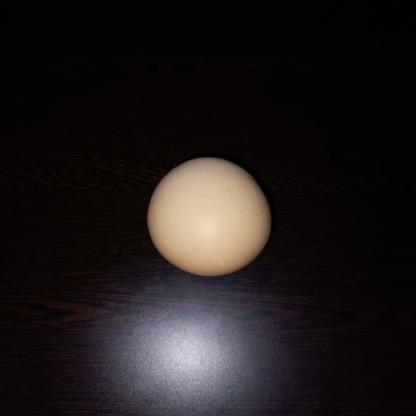egg: (145, 148, 280, 282)
